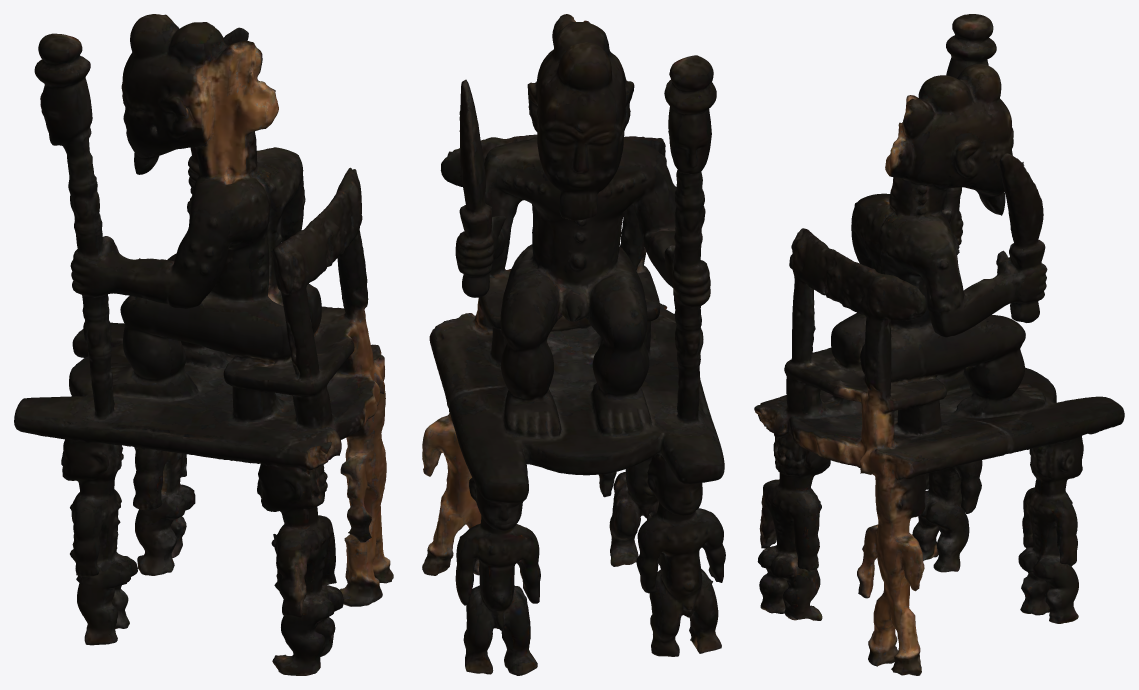
The model's file is preview.glb.
3 renders of one model, left to right at view 1: azimuth 30°, elevation 25°; view 2: azimuth 150°, elevation 25°; view 3: azimuth 270°, elevation 25°, orthographic. The views are drawn at different scales.
Parts seen in each view (by area): view 1: Object_2; view 2: Object_2; view 3: Object_2.
Part boxes in pixels (x1,y1,x2,y2): Object_2: [14, 14, 393, 675]; Object_2: [422, 14, 725, 675]; Object_2: [754, 14, 1124, 675].
Bounding box in the file's own units: 311 × 531 × 332.
1 material, 1 textured.
